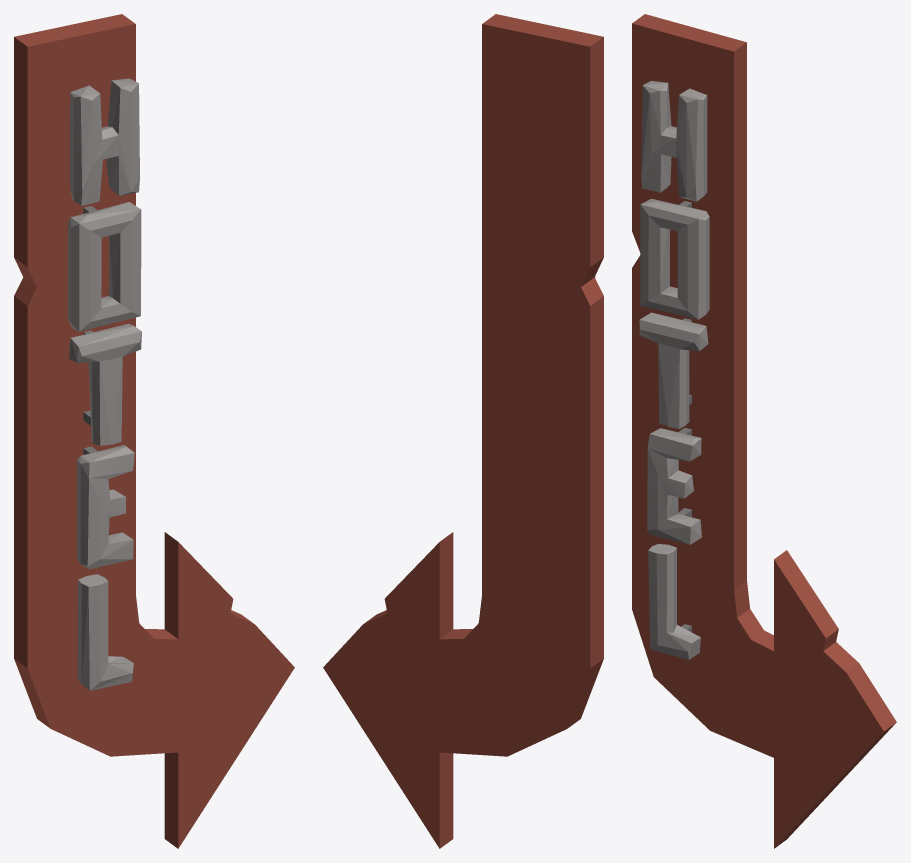
File: sign_hotel.glb
3 views of the same model, side by side, from view 1: azimuth 30°, elevation 25°; view 2: azimuth 150°, elevation 25°; view 3: azimuth 330°, elevation 25° (orthographic). The views are drawn at different scales.
Visible parts, largest first — view 1: SM_Prop_Sign_Hotel_01; view 2: SM_Prop_Sign_Hotel_01; view 3: SM_Prop_Sign_Hotel_01.
Boxes of the visible parts, box(x1,y1,x2,y2) form: SM_Prop_Sign_Hotel_01: box(14, 14, 294, 848); SM_Prop_Sign_Hotel_01: box(323, 14, 603, 848); SM_Prop_Sign_Hotel_01: box(632, 14, 896, 848).
Size of the model in its own units: 1.27 by 3.8 by 0.3.
1 material, 1 textured.
